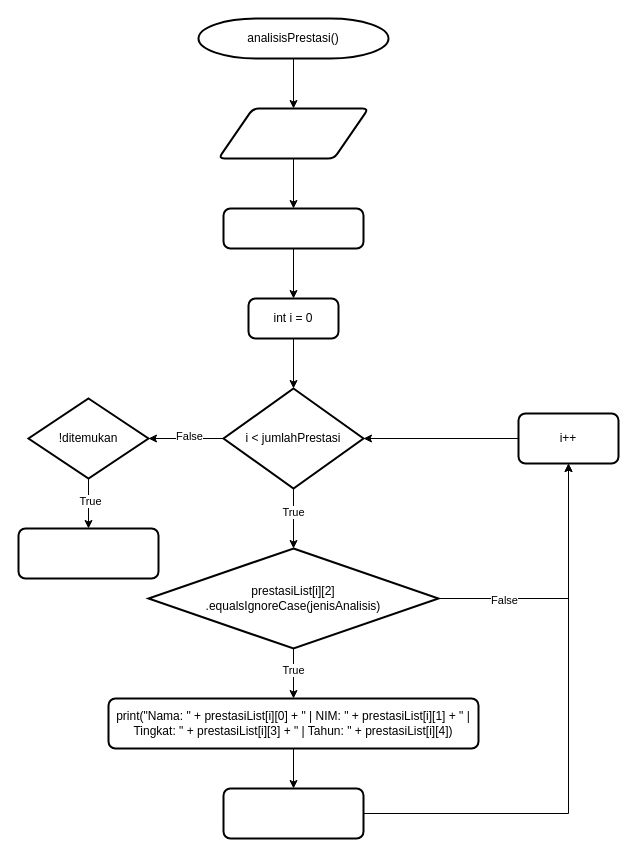
Image size: 636x856. Some labels were removed from this diagram. The shapes that lost their labels are listed below. From the top down, each one's centre as x and y in pixels, then its label:
pixel 293 133: Input: jenisAnalisis
pixel 293 228: boolean ditemukan = false
pixel 88 553: print("Data tidak ditemukan")
pixel 293 813: ditemukan = true
